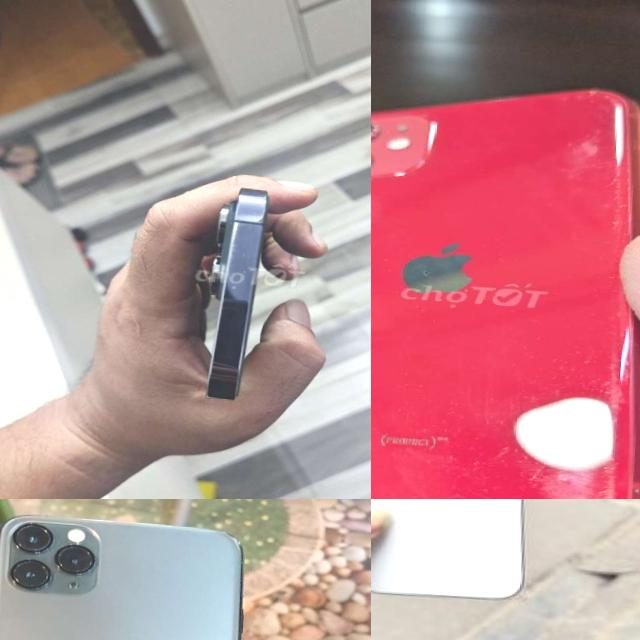gen_11: (371, 60, 640, 499), (0, 504, 268, 640)
gen_14: (178, 170, 286, 414)
gen_15: (371, 499, 546, 613)
